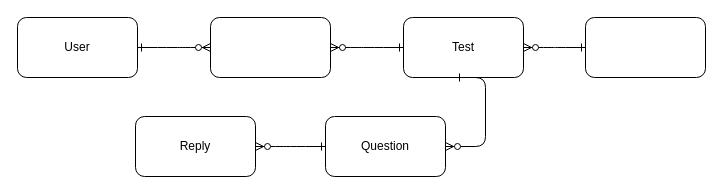
Image size: 723x194. Some labels were removed from this diagram. Each missing label, with the box of its shape:
Category: (584, 16, 706, 78)
UserTest: (210, 16, 330, 78)
